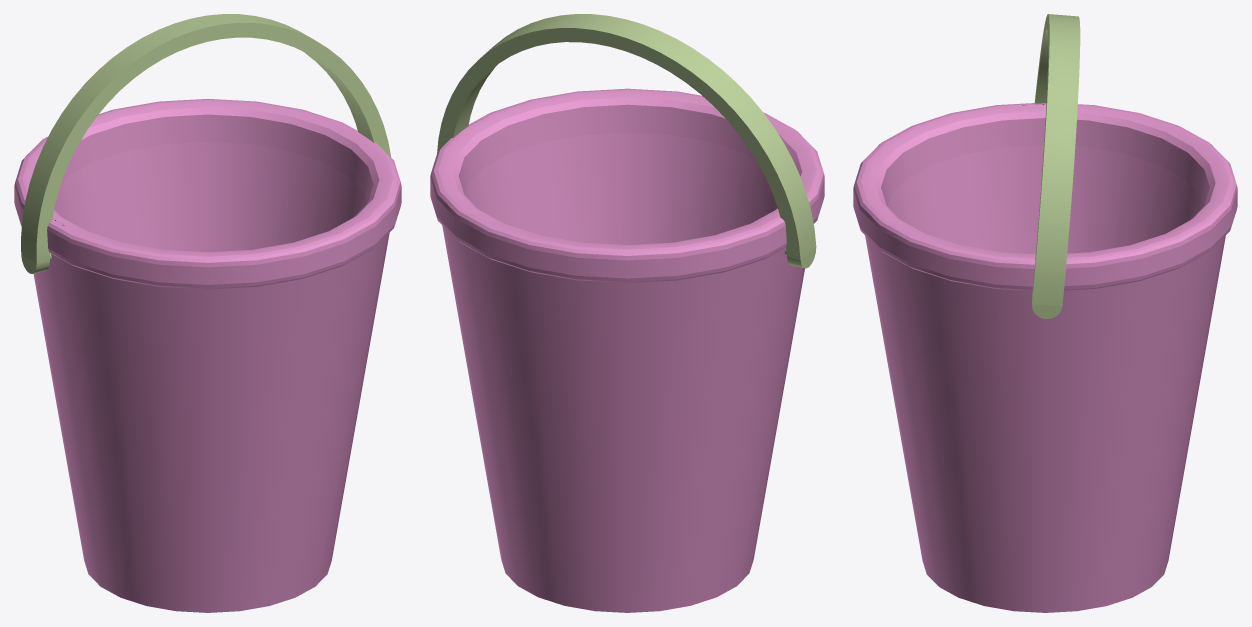
Rendered from KM_Bucket.FBX.
3 views of the same model, side by side, from view 1: azimuth 30°, elevation 25°; view 2: azimuth 150°, elevation 25°; view 3: azimuth 270°, elevation 25° (orthographic). The views are drawn at different scales.
Parts seen in each view (by area): view 1: Bucket, Handle; view 2: Bucket, Handle; view 3: Bucket, Handle.
Boxes of the visible parts, <box> form: Bucket: <box>14,99,401,612</box>; Handle: <box>21,14,391,273</box>; Bucket: <box>430,88,824,612</box>; Handle: <box>437,14,816,268</box>; Bucket: <box>853,103,1237,612</box>; Handle: <box>1032,14,1080,318</box>.
Size of the model in its own units: 43.59 by 62.1 by 40.98.
